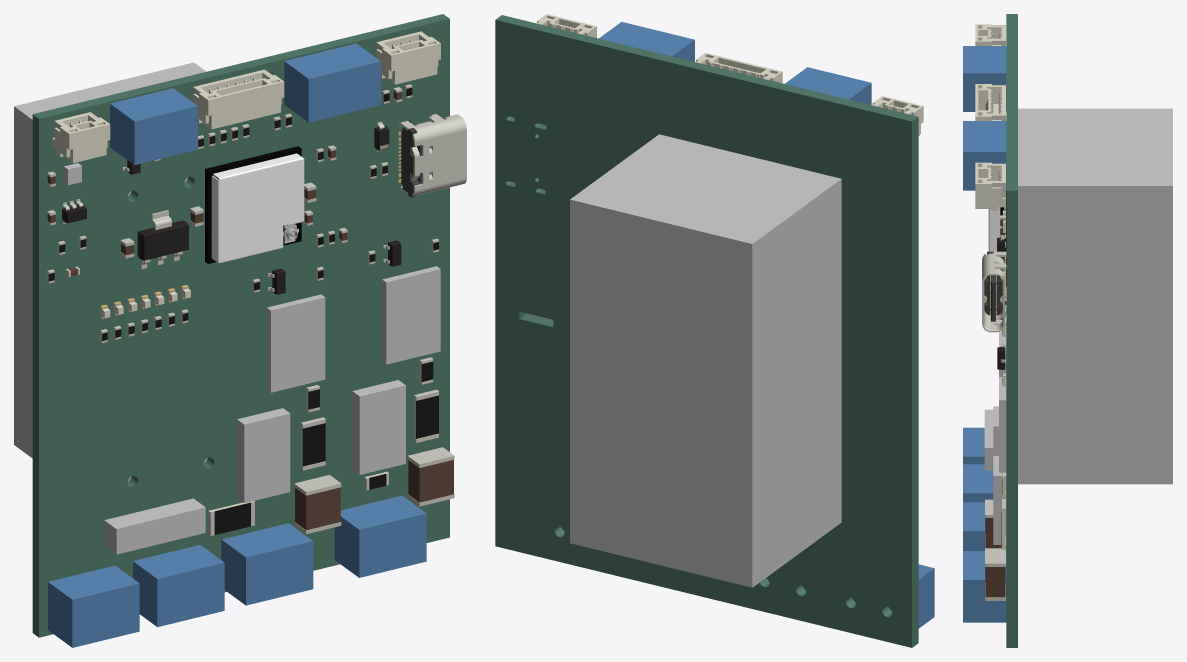
Rendered from board.glb.
The picture shows the model from 3 angles, left to right: view 1: azimuth 30°, elevation 25°; view 2: azimuth 150°, elevation 25°; view 3: azimuth 270°, elevation 25°; orthographic projection. The views are drawn at different scales.
Visible parts, largest first — view 1: =>[0:1:1:34], PS1, =>[0:1:1:33]_4bd39d, J12, J14, J15, J10, J13, J2, U8, U9, Q6 (+16 smaller); view 2: =>[0:1:1:34], PS1, J10, J2, =>[0:1:1:27]_696e56, J12, =>[0:1:1:11]_e7693c, =>[0:1:1:21]_a8bd8c; view 3: PS1, =>[0:1:1:34], J10, J15, J2, =>[0:1:1:11]_e7693c, =>[0:1:1:25]_84cd6e, J13, J14, =>[0:1:1:27]_696e56, Q6, J12 (+7 smaller).
Boxes of the visible parts, box(x1,y1,x2,y2) form: =>[0:1:1:34]: box(32, 14, 449, 637); PS1: box(14, 62, 207, 481); =>[0:1:1:33]_4bd39d: box(211, 153, 304, 263); J12: box(48, 565, 139, 647); J14: box(221, 523, 313, 605); J15: box(334, 495, 426, 577); J10: box(284, 43, 380, 122); J13: box(133, 545, 224, 627); J2: box(110, 88, 197, 164); U8: box(266, 294, 325, 392); U9: box(382, 266, 440, 364); Q6: box(352, 380, 405, 474); =>[0:1:1:34]: box(495, 15, 918, 647); PS1: box(570, 134, 841, 587); J10: box(599, 22, 694, 61); J2: box(785, 67, 871, 104); =>[0:1:1:27]_696e56: box(696, 53, 782, 83); J12: box(853, 564, 934, 628); =>[0:1:1:11]_e7693c: box(537, 14, 596, 37); =>[0:1:1:21]_a8bd8c: box(872, 96, 923, 135); PS1: box(1018, 108, 1172, 484); =>[0:1:1:34]: box(1006, 14, 1017, 647); J10: box(963, 121, 1006, 190); J15: box(963, 551, 1006, 622); J2: box(963, 46, 1006, 111); =>[0:1:1:11]_e7693c: box(975, 162, 1005, 210); =>[0:1:1:25]_84cd6e: box(982, 251, 1006, 332); J13: box(963, 464, 993, 502); J14: box(963, 502, 1006, 550); =>[0:1:1:27]_696e56: box(975, 84, 1005, 120); Q6: box(993, 456, 1006, 544); J12: box(963, 427, 984, 464).
Size of the model in its own units: 58.48 by 70 by 29.1.
